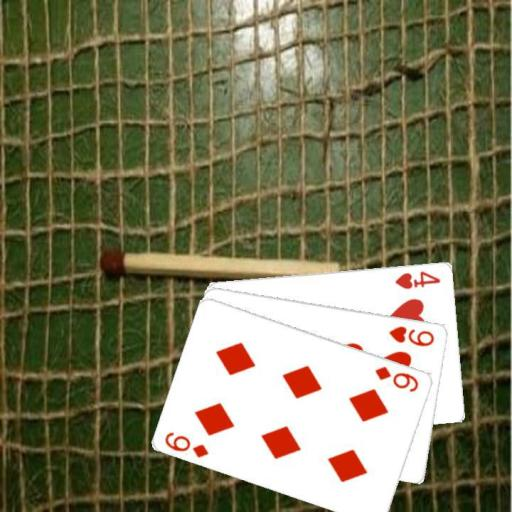4H: (393, 268, 442, 291)
6D: (372, 363, 421, 393), (162, 429, 211, 459)
9H: (386, 322, 437, 348)
